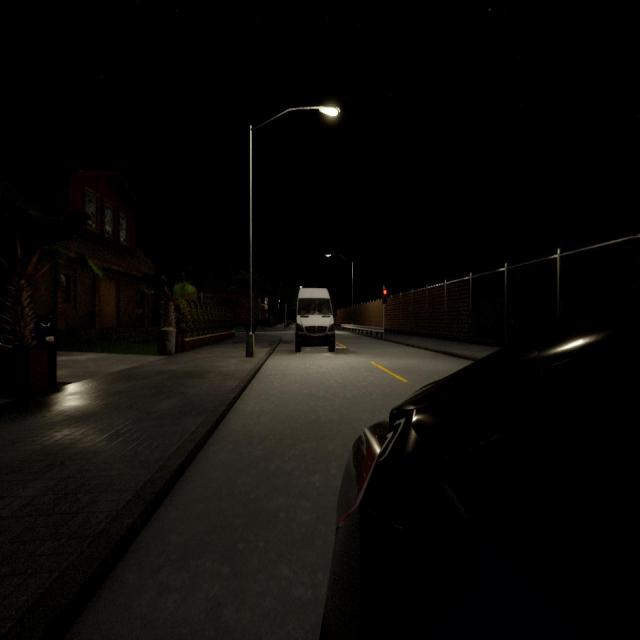Vehicle: (324, 303, 639, 640), (294, 287, 336, 353)
traffic_light: (383, 289, 387, 304)
